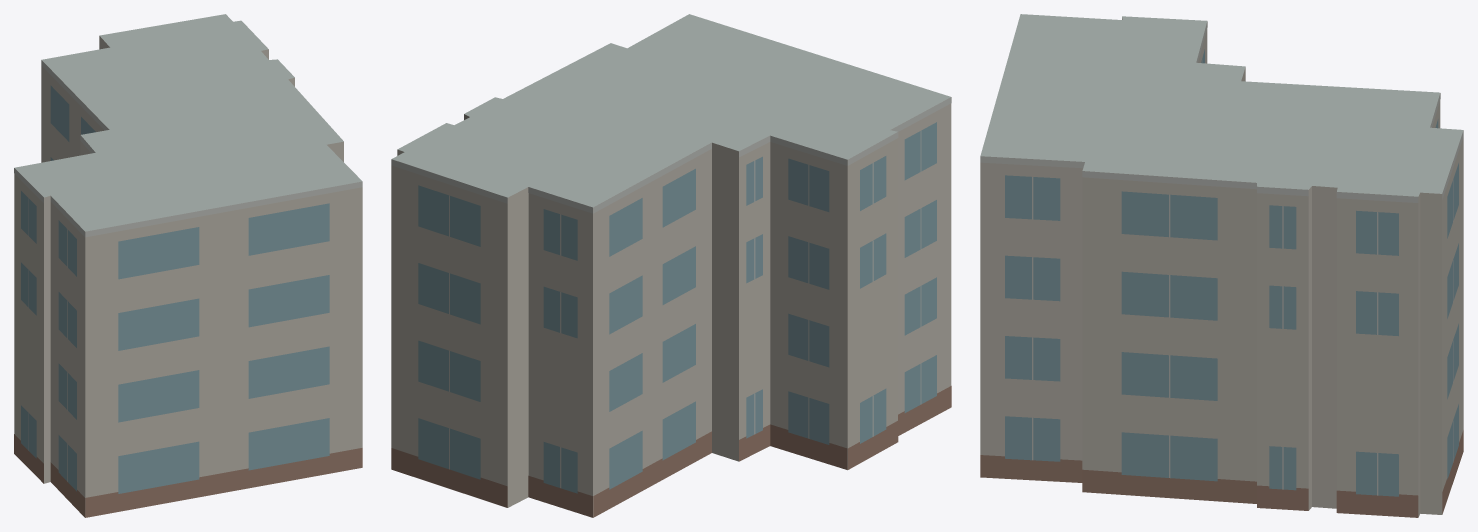
The model's file is survey-upis-32627103.glb.
3 renders of one model, left to right at view 1: azimuth 30°, elevation 25°; view 2: azimuth 150°, elevation 25°; view 3: azimuth 270°, elevation 25°, orthographic. The views are drawn at different scales.
Parts seen in each view (by area): view 1: survey-upis-32627103.tmp; view 2: survey-upis-32627103.tmp; view 3: survey-upis-32627103.tmp.
Boxes of the visible parts, <box> form: survey-upis-32627103.tmp: <box>14,14,362,517</box>; survey-upis-32627103.tmp: <box>391,14,951,517</box>; survey-upis-32627103.tmp: <box>980,14,1463,517</box>.
Size of the model in its own units: 14.89 by 12.2 by 16.65.
